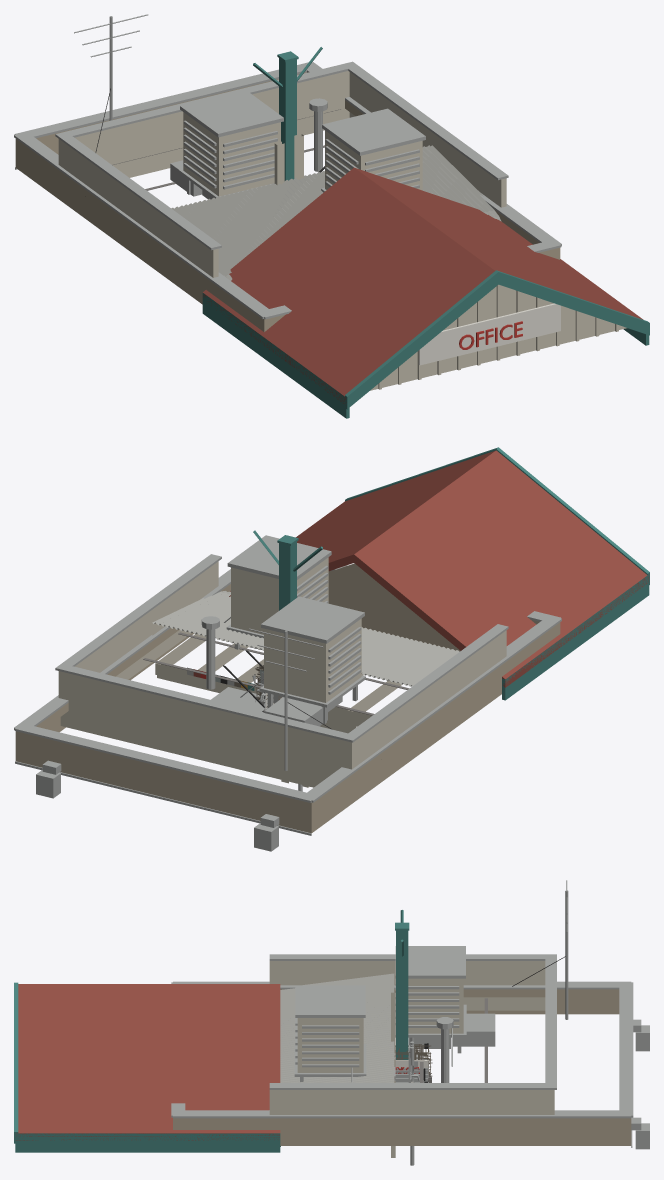
Rendered from architecture_kit.glb.
3 renders of one model, top to bottom at view 1: azimuth 30°, elevation 25°; view 2: azimuth 150°, elevation 25°; view 3: azimuth 270°, elevation 25°, orthographic. The views are drawn at different scales.
Parts seen in each view (by area): view 1: A_o3, A_o128, A_o5, A_o10, A_o82, A_o84, A_o114, A_o34, A_o58; view 2: A_o3, A_o128, A_o10, A_o5, A_o82, A_o84, A_o114, A_w131_09; view 3: A_o3, A_o128, A_o82, A_o10, A_o34, A_o12, A_o5, A_o84, A_o114, A_o36, A_o60, A_o58.
Part boxes in pixels (left/top/right/bottom): A_o3: left=14, top=65, right=649, bottom=418; A_o128: left=55, top=61, right=508, bottom=277; A_o5: left=171, top=146, right=497, bottom=280; A_o10: left=29, top=14, right=546, bottom=319; A_o82: left=28, top=62, right=561, bottom=317; A_o84: left=173, top=145, right=501, bottom=278; A_o114: left=277, top=48, right=322, bottom=180; A_o34: left=326, top=141, right=422, bottom=190; A_o58: left=74, top=14, right=419, bottom=188; A_o3: left=28, top=447, right=649, bottom=835; A_o128: left=55, top=554, right=508, bottom=787; A_o10: left=29, top=535, right=547, bottom=851; A_o5: left=157, top=592, right=459, bottom=726; A_o82: left=14, top=565, right=545, bottom=829; A_o84: left=152, top=591, right=458, bottom=686; A_o114: left=254, top=531, right=298, bottom=610; A_w131_09: left=211, top=687, right=274, bottom=712; A_o3: left=14, top=946, right=633, bottom=1152; A_o128: left=269, top=954, right=556, bottom=1114; A_o82: left=171, top=988, right=649, bottom=1149; A_o10: left=171, top=880, right=649, bottom=1131; A_o34: left=294, top=1018, right=366, bottom=1082; A_o12: left=280, top=976, right=394, bottom=1082; A_o5: left=280, top=973, right=395, bottom=1146; A_o84: left=280, top=982, right=394, bottom=1146; A_o114: left=395, top=922, right=409, bottom=1059; A_o36: left=280, top=979, right=394, bottom=1082; A_o60: left=280, top=978, right=394, bottom=1078; A_o58: left=351, top=880, right=568, bottom=1082.
Bounding box in the file's own units: 4.5 × 3.83 × 8.88.
